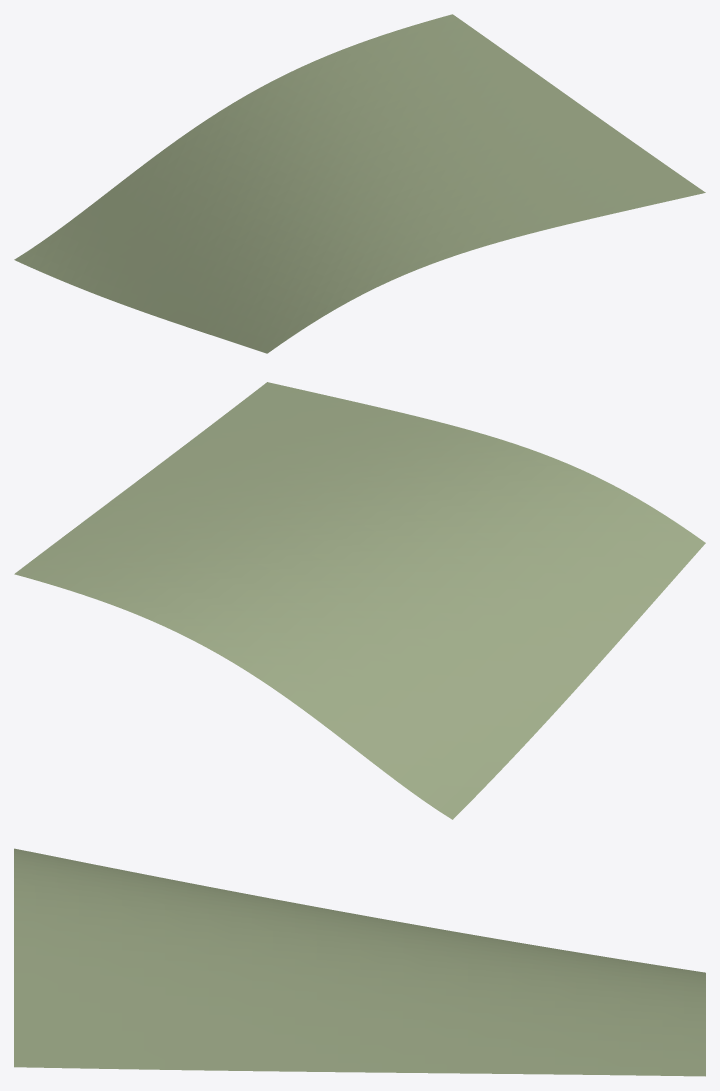
File: expanse-16-5.glb
The picture shows the model from 3 angles, top to bottom: view 1: azimuth 30°, elevation 25°; view 2: azimuth 150°, elevation 25°; view 3: azimuth 270°, elevation 25°; orthographic projection. The views are drawn at different scales.
Visible parts, largest first — view 1: expanse-16-5; view 2: expanse-16-5; view 3: expanse-16-5.
Boxes of the visible parts, box(x1,y1,x2,y2) form: expanse-16-5: box(14, 14, 705, 353); expanse-16-5: box(14, 382, 705, 819); expanse-16-5: box(14, 848, 705, 1076).
Size of the model in its own units: 256 by 82.31 by 256.
